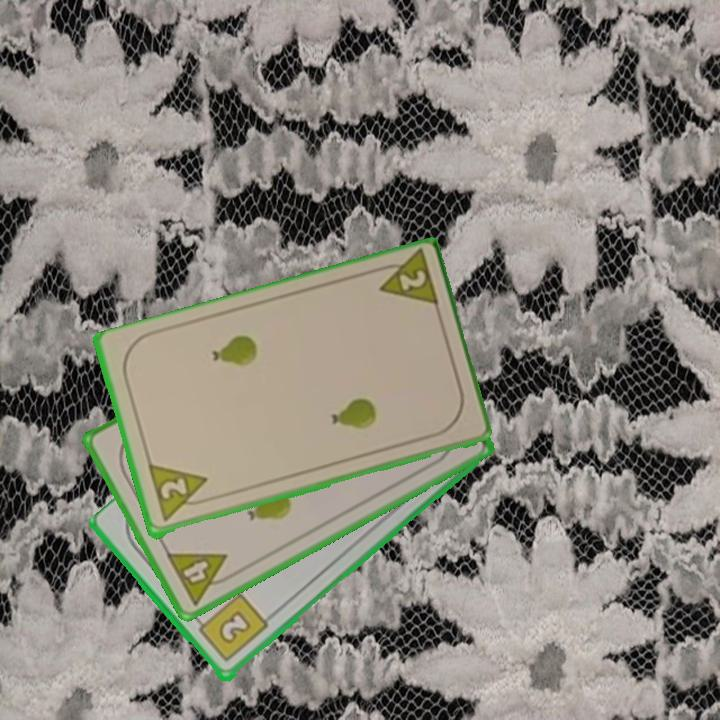2b: (191, 590, 271, 666)
2p: (369, 249, 442, 313), (144, 462, 215, 525)
4p: (162, 549, 240, 609)
